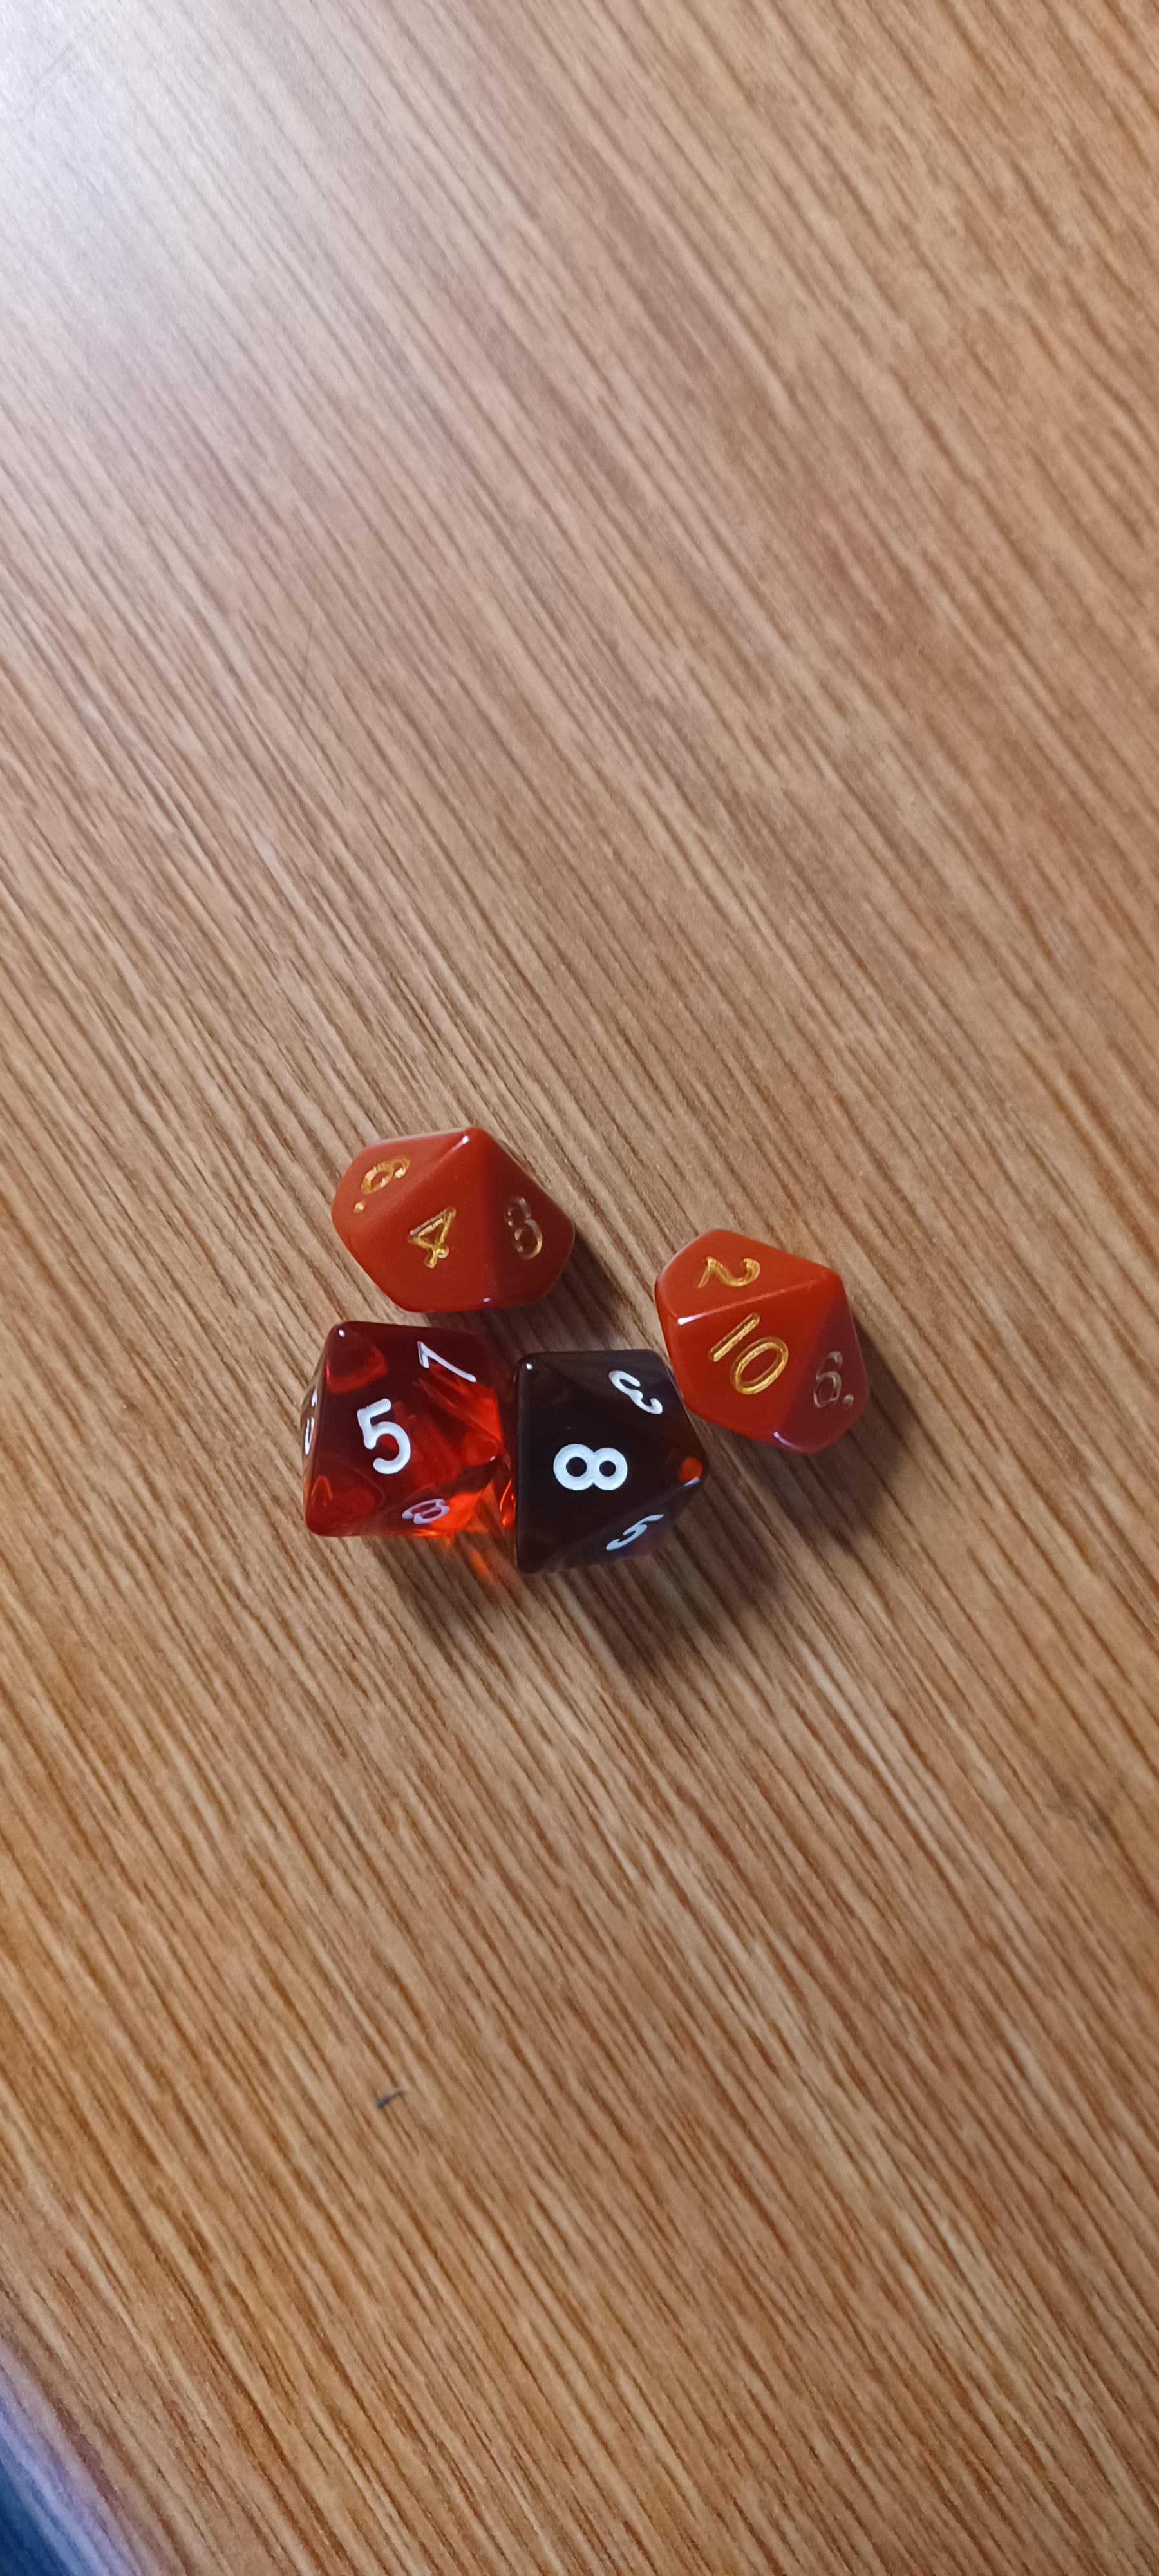eight: (474, 1345, 717, 1607)
five: (264, 1308, 538, 1587)
four: (307, 1106, 602, 1324)
ten: (642, 1204, 914, 1483)
